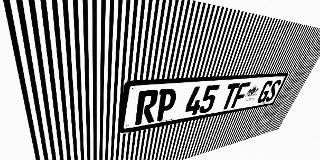4: (184, 86, 206, 117)
5: (198, 84, 220, 114)
F: (231, 82, 251, 108)
G: (256, 80, 274, 104)
P: (154, 88, 178, 122)
R: (135, 89, 159, 125)
S: (264, 79, 282, 102)
T: (219, 83, 240, 110)
